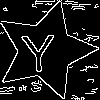Y: (20, 25, 57, 72)
